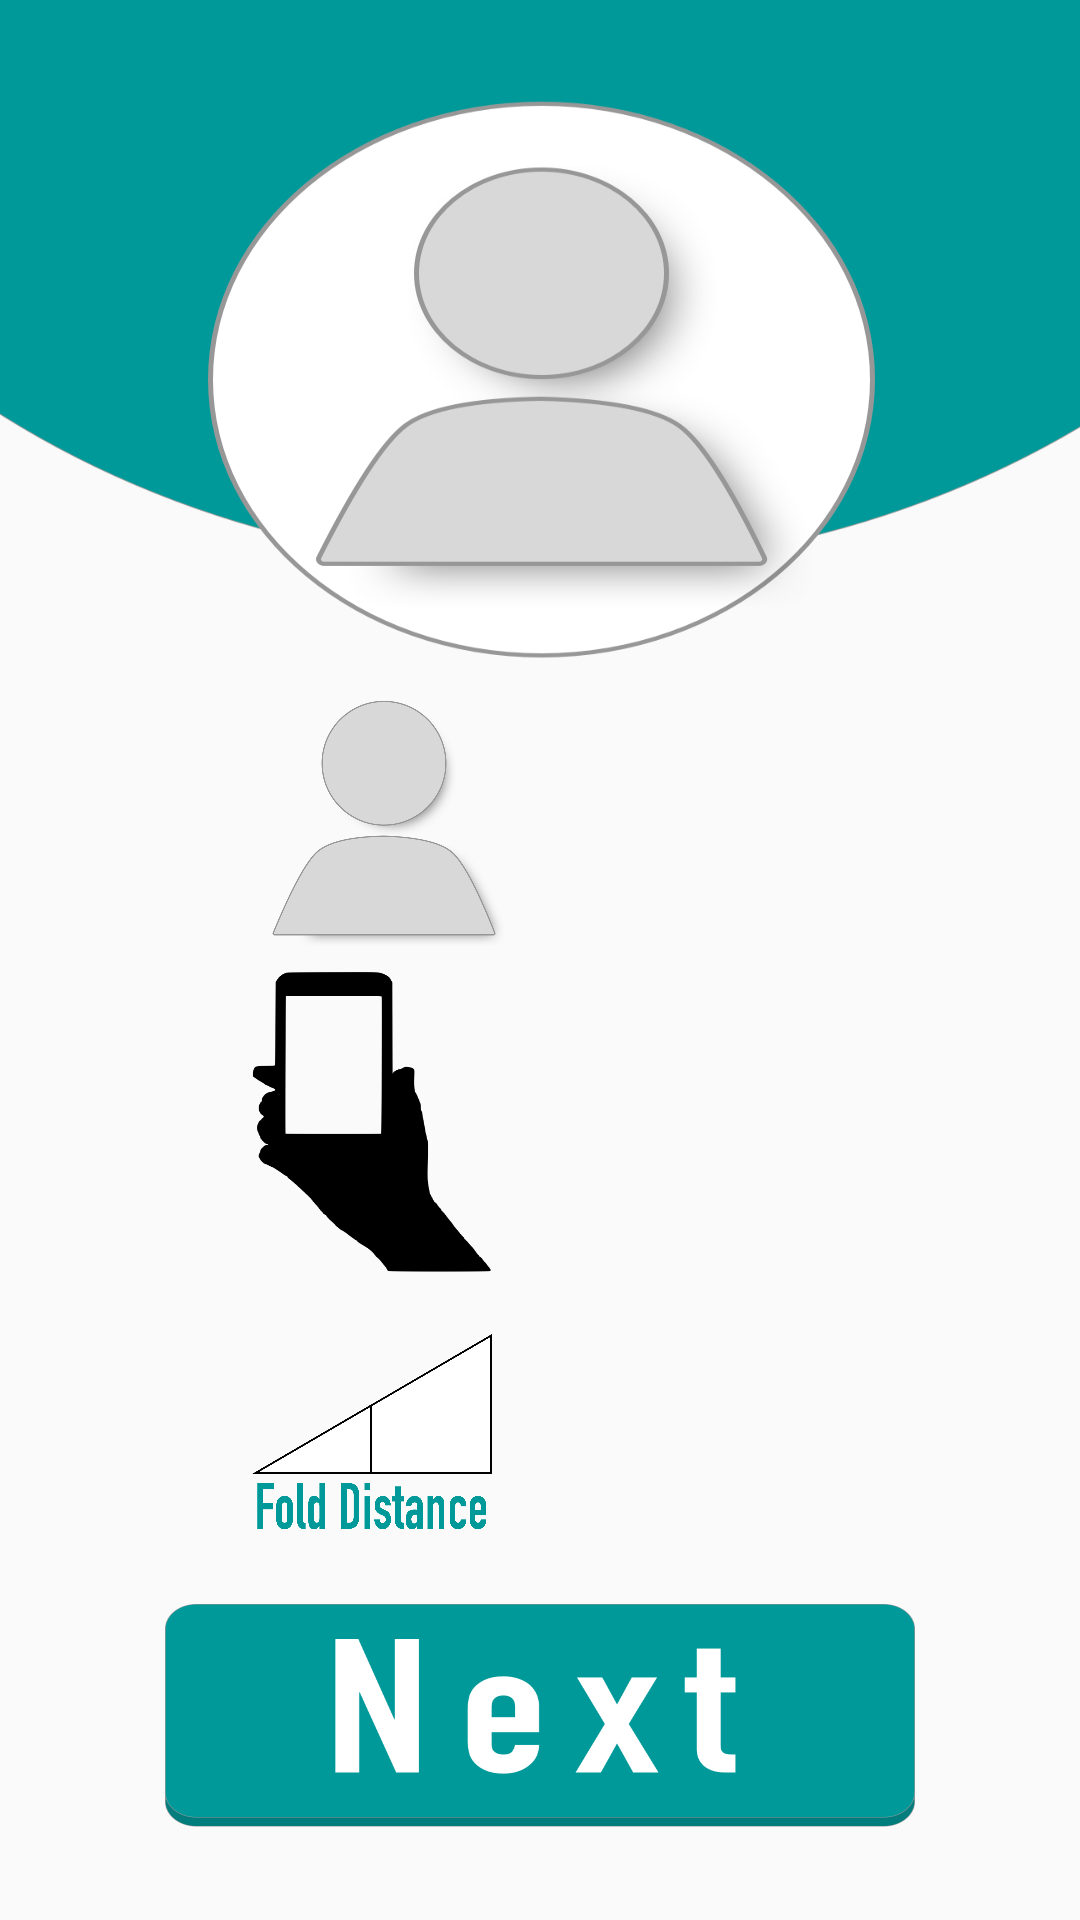

Icons on this 1080 x 1920 Android screen, each with the point to tap as (x=x, y=y):
holding phone: (x=372, y=1122)
user: (x=384, y=820)
